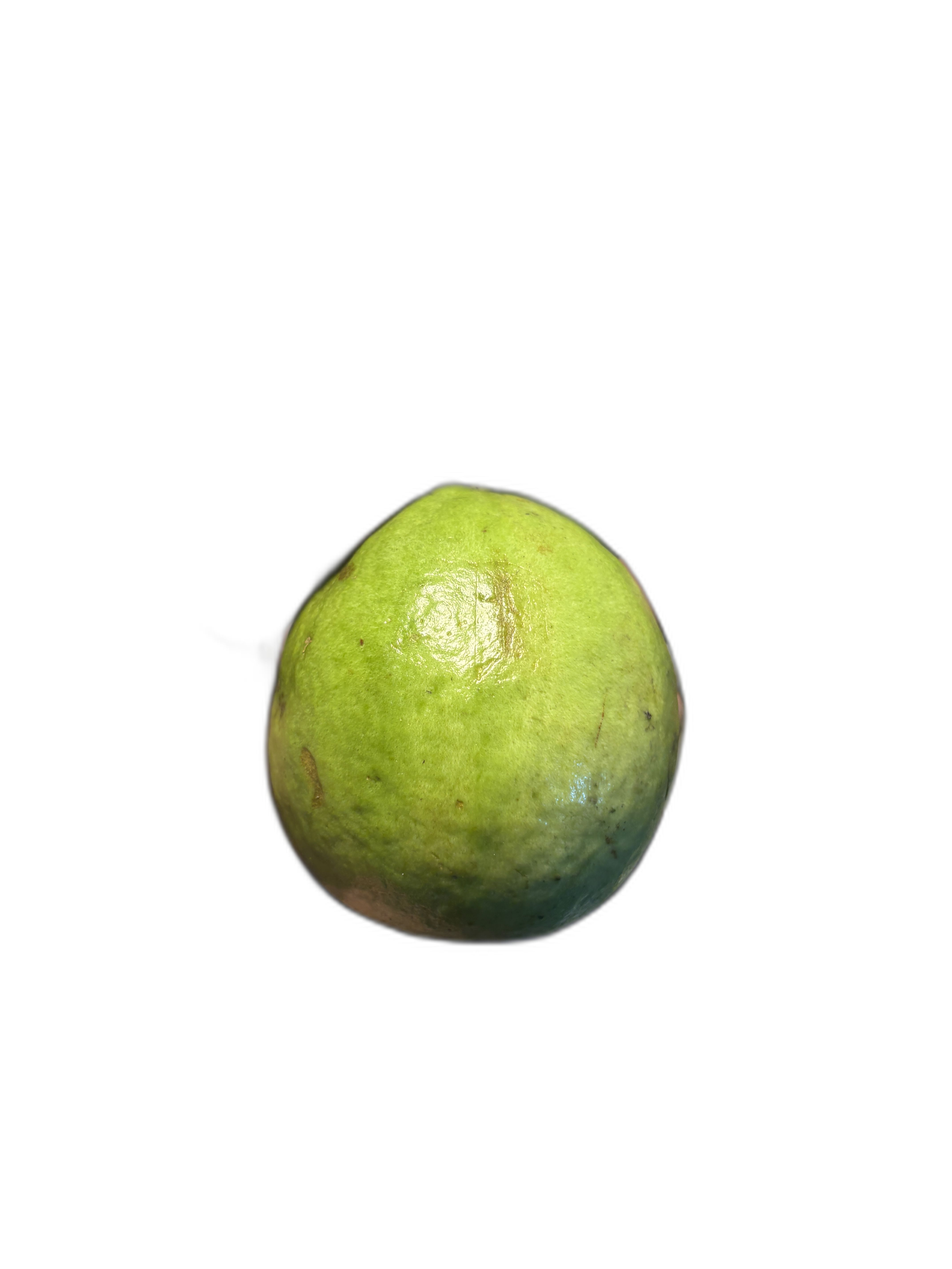guava: (118, 0, 943, 1096)
